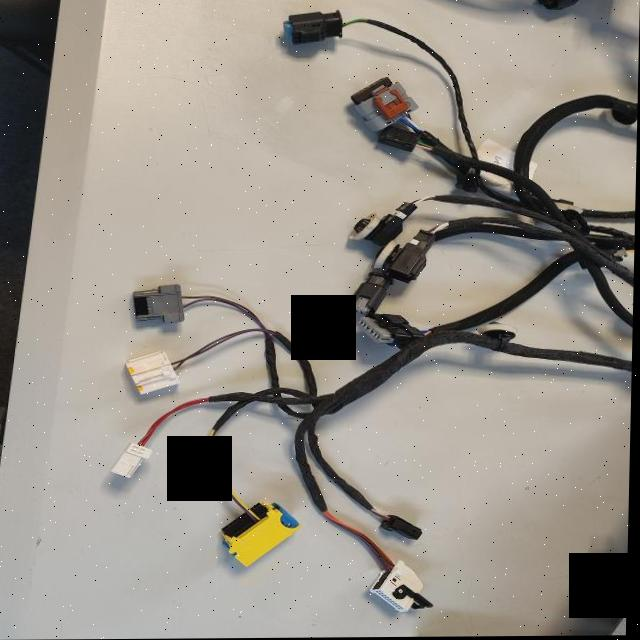cable: (265, 232, 637, 576), (433, 246, 586, 350)
clip: (348, 206, 388, 249), (473, 313, 520, 348), (370, 235, 404, 272)
connector: (217, 489, 304, 572), (369, 558, 441, 631), (349, 70, 417, 137), (357, 301, 430, 360), (124, 349, 182, 399), (348, 263, 395, 318), (133, 285, 185, 334), (282, 7, 344, 45), (369, 81, 416, 128), (376, 117, 427, 158), (112, 438, 153, 484), (379, 510, 426, 547)
